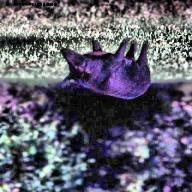boar: (52, 32, 175, 95)
